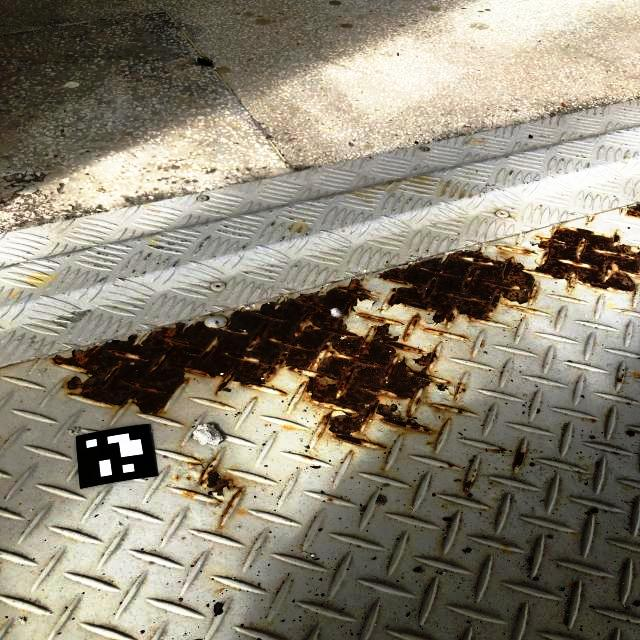Corrosion: (48, 275, 438, 449), (373, 246, 541, 328), (525, 226, 640, 298), (186, 453, 245, 518), (434, 381, 465, 402), (357, 313, 403, 326), (403, 312, 422, 341), (423, 328, 465, 340), (496, 243, 537, 255), (428, 403, 467, 414), (512, 448, 526, 469), (438, 417, 450, 438), (625, 203, 640, 219), (182, 490, 199, 498), (464, 479, 473, 493), (213, 499, 224, 510), (585, 215, 595, 225), (616, 374, 625, 384), (301, 455, 316, 461), (493, 447, 507, 453), (571, 580, 579, 589), (471, 468, 477, 479), (627, 430, 636, 437), (447, 463, 455, 468), (325, 498, 335, 502), (186, 475, 192, 480), (175, 475, 180, 481), (381, 308, 385, 312), (620, 208, 623, 213), (502, 543, 507, 546), (516, 242, 519, 245), (500, 511, 502, 514)
